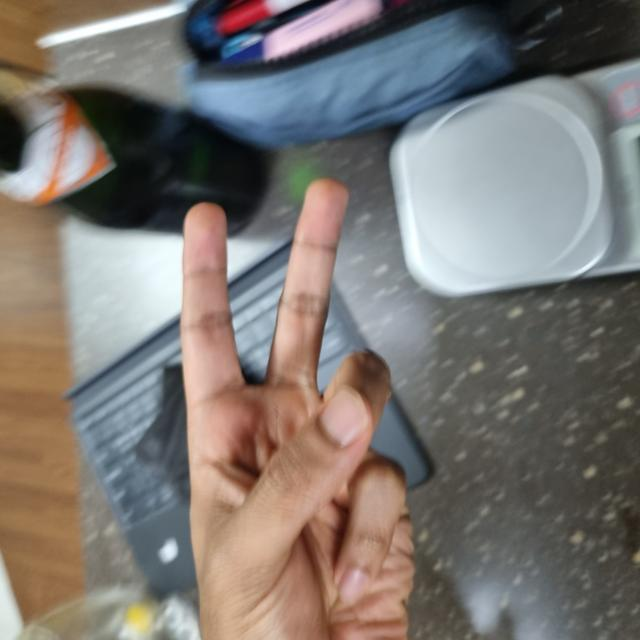Scissors: (0, 182, 461, 415)
